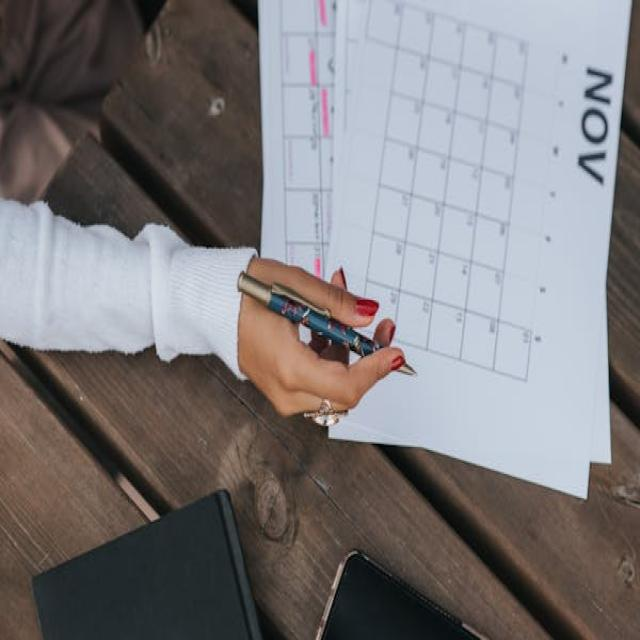pen: (228, 259, 422, 385)
